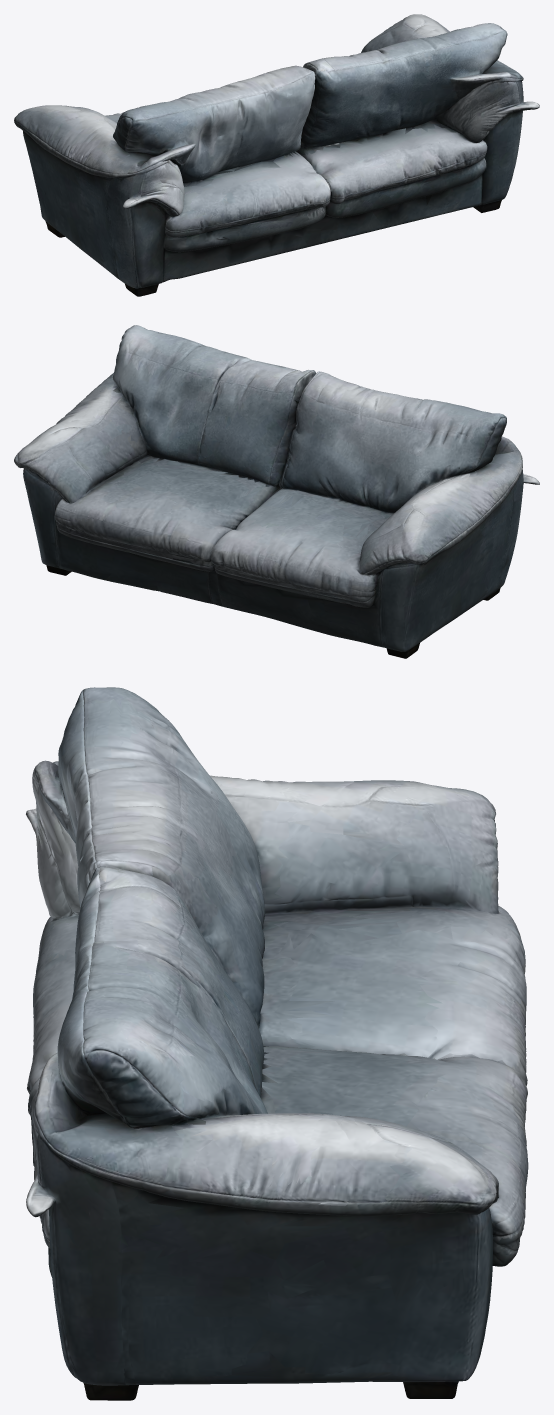
The model's file is sofa.glb.
3 views of the same model, one above another, from view 1: azimuth 30°, elevation 25°; view 2: azimuth 150°, elevation 25°; view 3: azimuth 270°, elevation 25° (orthographic). The views are drawn at different scales.
Visible parts, largest first — view 1: tripo_node_d36fe986-3882-4431-9438-245288b46fc8; view 2: tripo_node_d36fe986-3882-4431-9438-245288b46fc8; view 3: tripo_node_d36fe986-3882-4431-9438-245288b46fc8.
Part boxes in pixels (x1,y1,x2,y2): tripo_node_d36fe986-3882-4431-9438-245288b46fc8: (14, 14, 539, 296); tripo_node_d36fe986-3882-4431-9438-245288b46fc8: (14, 325, 539, 658); tripo_node_d36fe986-3882-4431-9438-245288b46fc8: (26, 687, 528, 1400).
Bounding box in the file's own units: 0.9792 × 0.4065 × 0.5115.
1 material, 1 textured.
